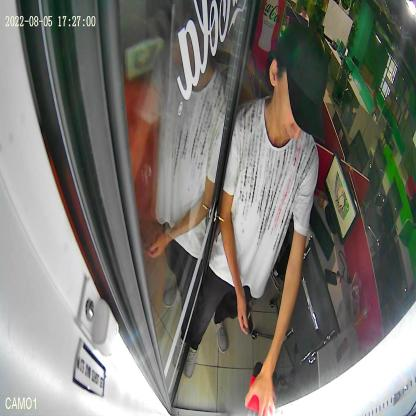red: (247, 361, 278, 416)
